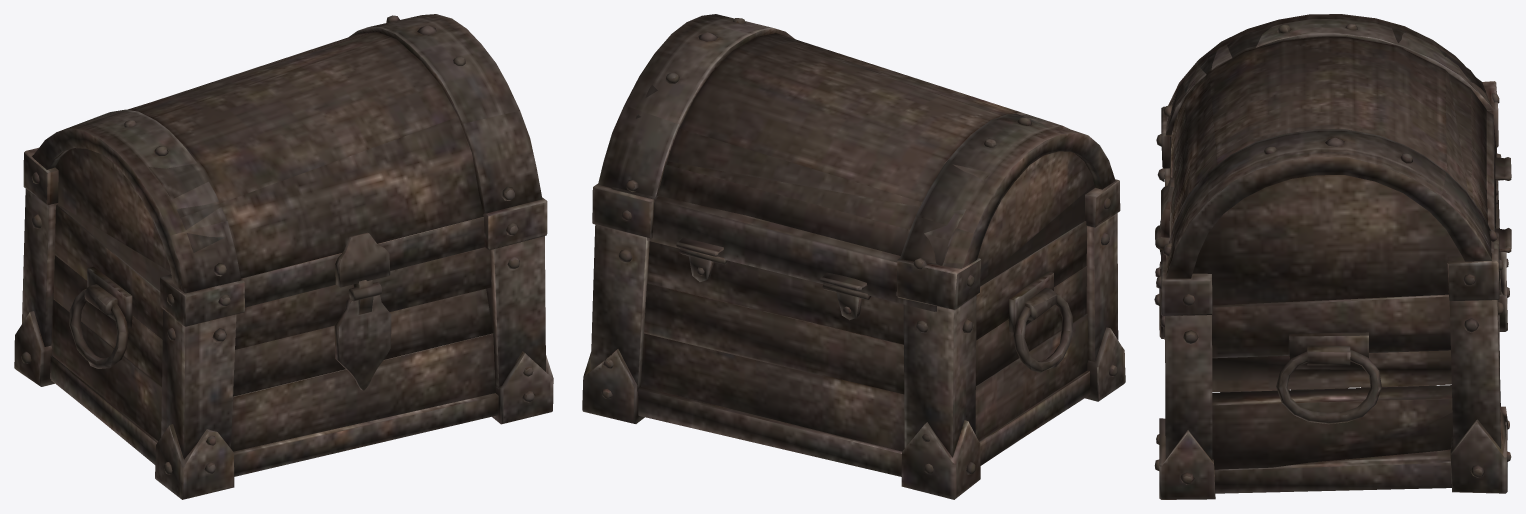
The model's file is d_trunk_small_A.glb.
3 views of the same model, side by side, from view 1: azimuth 30°, elevation 25°; view 2: azimuth 150°, elevation 25°; view 3: azimuth 270°, elevation 25° (orthographic). The views are drawn at different scales.
Visible parts, largest first — view 1: d_trunk_small_A; view 2: d_trunk_small_A; view 3: d_trunk_small_A.
Part boxes in pixels (x1=…): d_trunk_small_A: x1=14, y1=14, x2=553, y2=499; d_trunk_small_A: x1=582, y1=14, x2=1125, y2=499; d_trunk_small_A: x1=1154, y1=14, x2=1511, y2=499.
Bounding box in the file's own units: 0.6007 × 0.4843 × 0.4569.
1 material, 1 textured.
